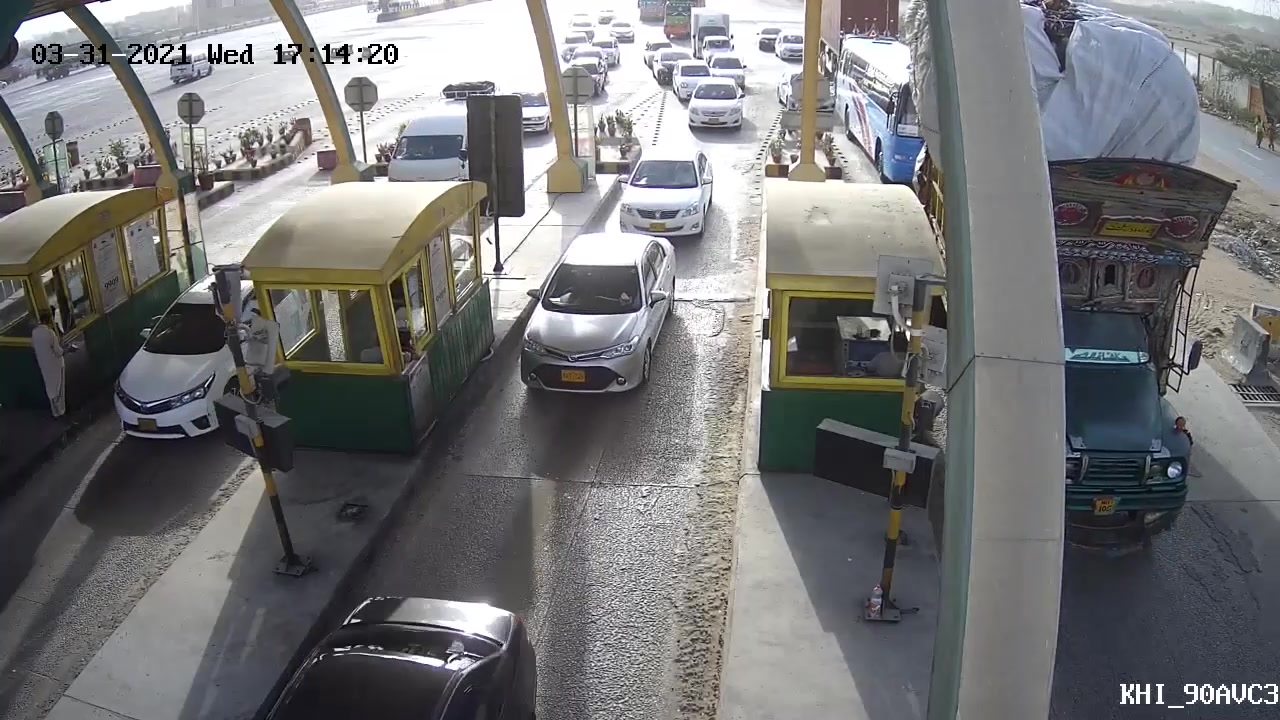F1: (514, 224, 674, 400), (613, 146, 717, 242)
